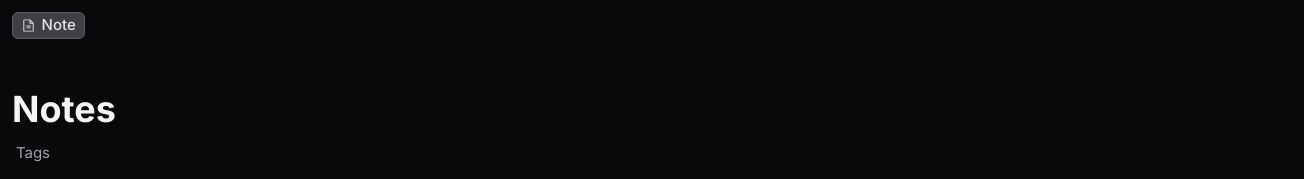
ObjectHeader › test Escape with an emptied title restores it and writes nothing
The image size is (1304, 179).
Clear the field named "title": [652, 110] box [12,87,1292,132]
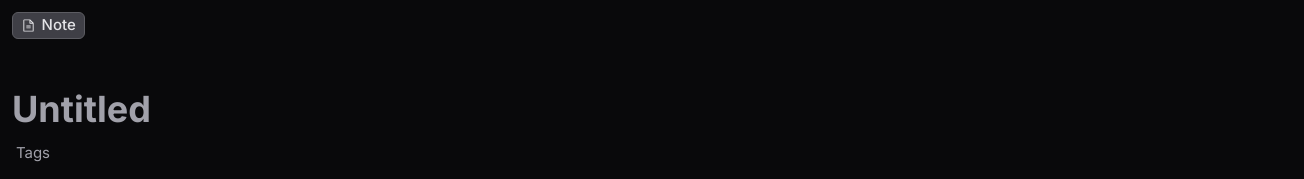
Press Escape
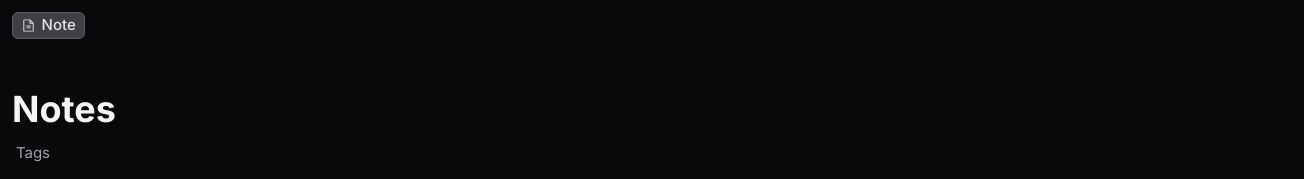
expect the field named "title" holds "Notes": met, box [12,87,1292,132]
